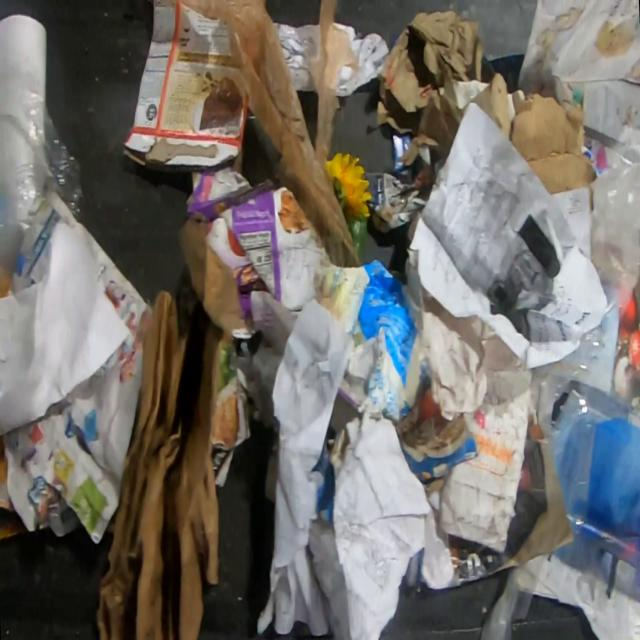cardboard: (97, 211, 240, 639), (377, 10, 598, 195), (185, 166, 331, 340), (122, 0, 244, 173), (314, 260, 429, 422), (440, 367, 533, 554), (338, 378, 361, 411)
soft_plastic: (183, 0, 364, 267), (534, 156, 639, 437), (552, 368, 640, 574), (0, 87, 83, 280)
